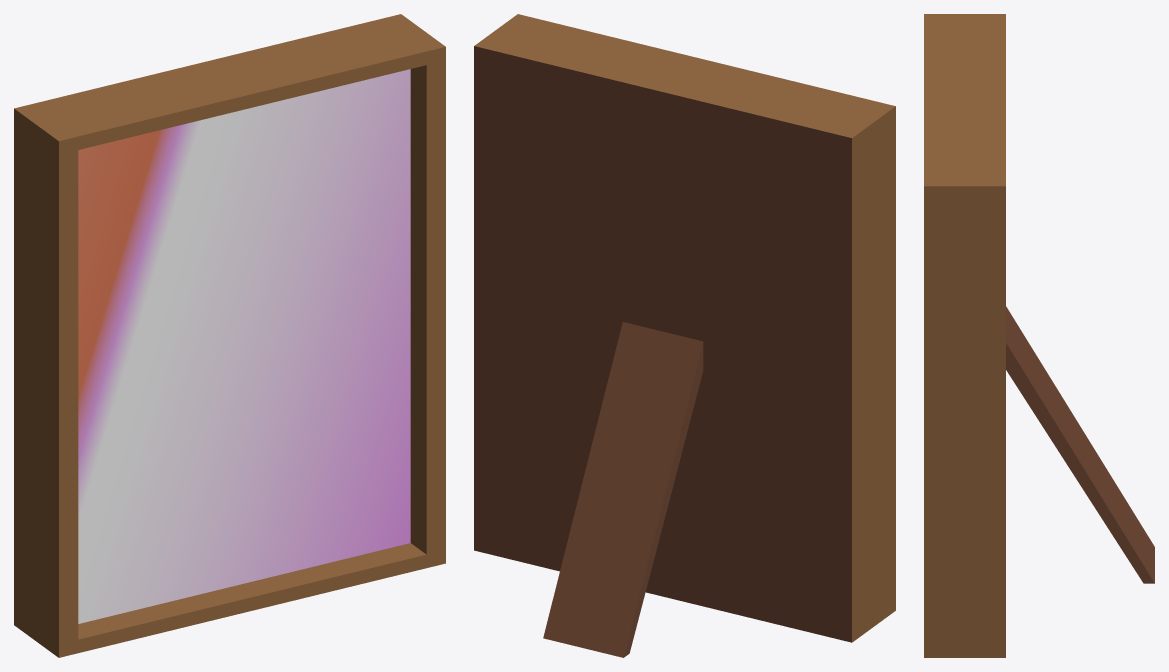
The model's file is FurnAcc_PaintingSmall.fbx.
3 renders of one model, left to right at view 1: azimuth 30°, elevation 25°; view 2: azimuth 150°, elevation 25°; view 3: azimuth 270°, elevation 25°, orthographic. The views are drawn at different scales.
Visible parts, largest first — view 1: FurnAcc_PaintingSmall; view 2: FurnAcc_PaintingSmall; view 3: FurnAcc_PaintingSmall.
Boxes of the visible parts, x1,y1,x2,y2 form: FurnAcc_PaintingSmall: (14,14,445,657); FurnAcc_PaintingSmall: (474,14,895,657); FurnAcc_PaintingSmall: (924,14,1154,657).
Size of the model in its own units: 20.88 by 26.63 by 11.82.
